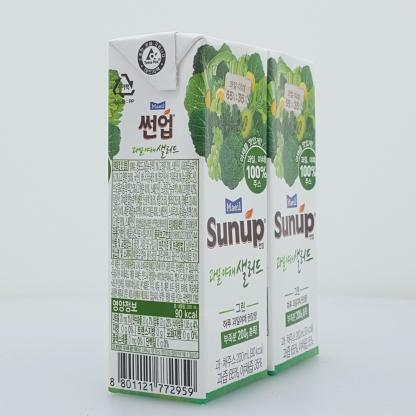-------------200ML: (108, 31, 268, 405)
